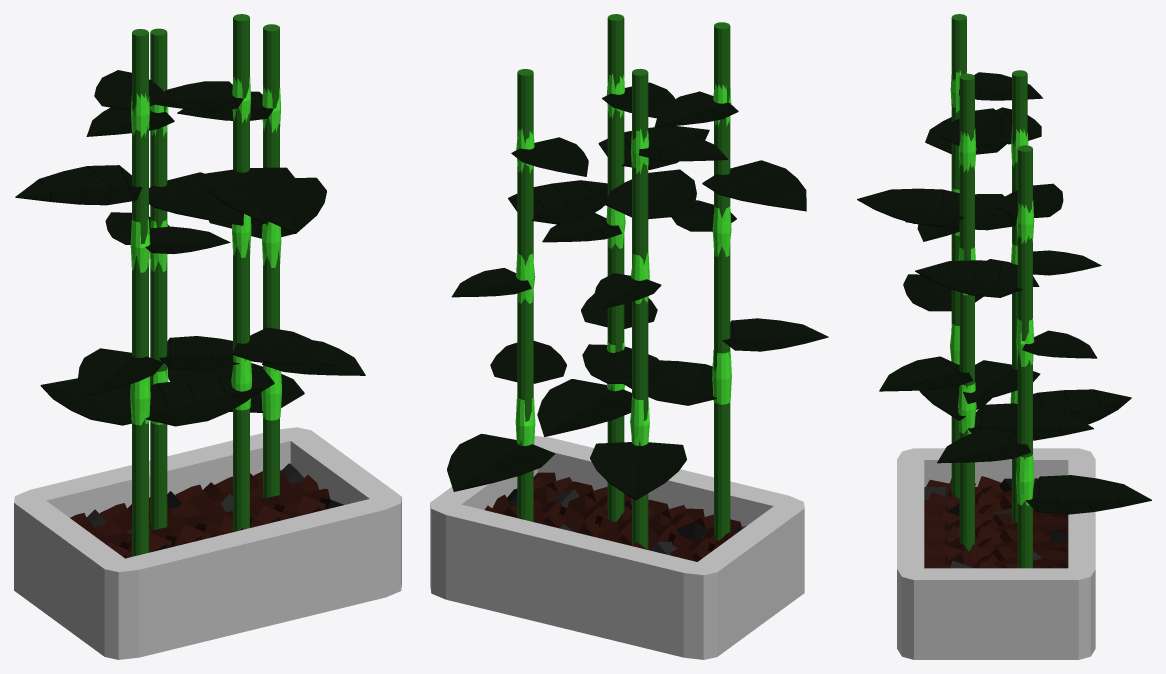
The model's file is Plant1.obj.
3 renders of one model, left to right at view 1: azimuth 30°, elevation 25°; view 2: azimuth 150°, elevation 25°; view 3: azimuth 270°, elevation 25°, orthographic. The views are drawn at different scales.
Visible parts, largest first — view 1: PlantBox, Cylinder, Cylinder.007, Cylinder.008, Cylinder.015, Cube, Cube.003, Cube.092, Cube.085, Cube.090, Cube.001, Cube.088 (+18 smaller); view 2: PlantBox, Cylinder, Cylinder.015, Cylinder.007, Cylinder.008, Cube.098, Cube.088, Cube.089, Cube.003, Cube.095, Cube.085, Cube.001 (+18 smaller); view 3: PlantBox, Cylinder.008, Cylinder.015, Cube.098, Cube.095, Cube.092, Cylinder, Cube.089, Cube.090, Cube.097, Cube.088, Cylinder.007 (+17 smaller).
Boxes of the visible parts, x1,y1,x2,y2 form: PlantBox: [14, 427, 401, 659]; Cylinder: [132, 29, 148, 556]; Cylinder.007: [150, 28, 167, 530]; Cylinder.008: [233, 14, 249, 531]; Cylinder.015: [263, 24, 279, 498]; Cube: [145, 378, 261, 426]; Cube.003: [15, 165, 141, 205]; Cube.092: [205, 167, 296, 223]; Cube.085: [149, 172, 243, 225]; Cube.090: [232, 327, 335, 365]; Cube.001: [78, 348, 163, 396]; Cube.088: [40, 378, 131, 425]; PlantBox: [430, 436, 804, 659]; Cylinder: [714, 22, 730, 540]; Cylinder.015: [517, 69, 533, 521]; Cylinder.007: [632, 68, 648, 549]; Cylinder.008: [607, 14, 624, 521]; Cube.098: [447, 433, 554, 491]; Cube.088: [590, 442, 686, 500]; Cube.089: [537, 379, 631, 436]; Cube.003: [702, 160, 806, 211]; Cube.095: [508, 180, 607, 224]; Cube.085: [604, 169, 696, 219]; Cube.001: [722, 318, 828, 351]; PlantBox: [897, 448, 1095, 659]; Cylinder.008: [959, 73, 974, 551]; Cylinder.015: [1017, 145, 1032, 568]; Cube.098: [1026, 475, 1151, 514]; Cube.095: [915, 260, 1022, 297]; Cube.092: [857, 188, 964, 226]; Cylinder: [951, 14, 966, 498]; Cube.089: [968, 403, 1093, 440]; Cube.090: [879, 356, 972, 391]; Cube.097: [937, 428, 1030, 463]; Cube.088: [1033, 389, 1131, 424]; Cylinder.007: [1012, 70, 1027, 523].
Size of the model in its own units: 3.95 by 6.72 by 3.23.
